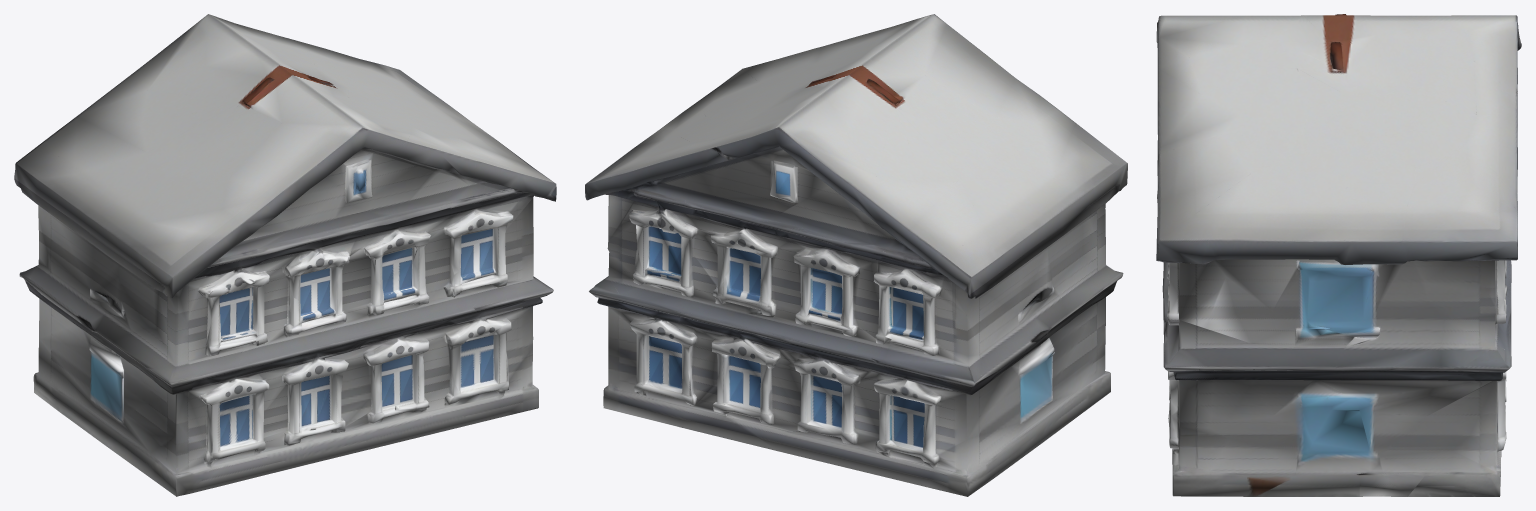
File: Main_House.glb
3 views of the same model, side by side, from view 1: azimuth 30°, elevation 25°; view 2: azimuth 150°, elevation 25°; view 3: azimuth 270°, elevation 25° (orthographic). The views are drawn at different scales.
Bounding box in the file's own units: 2 × 1.64 × 1.43.
Materials: 1 (1 with a texture image).
